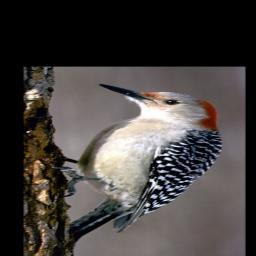Woodpecker: (53, 83, 223, 234)
